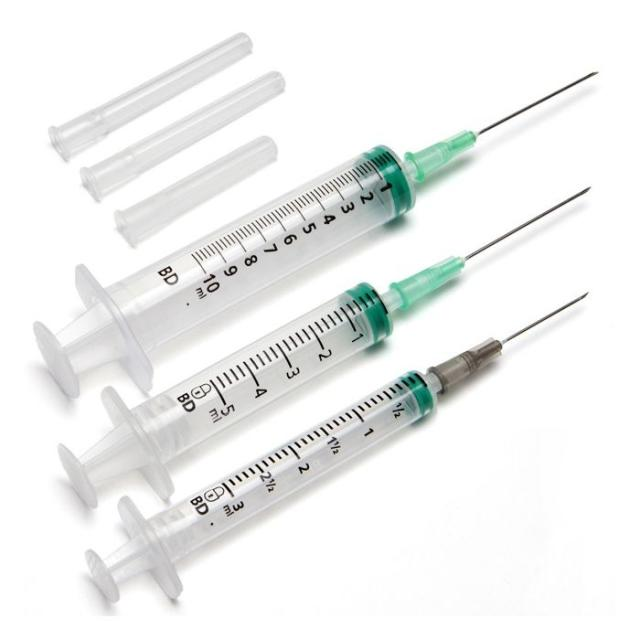syringe: (50, 173, 600, 526), (31, 56, 598, 388), (66, 292, 606, 620)
